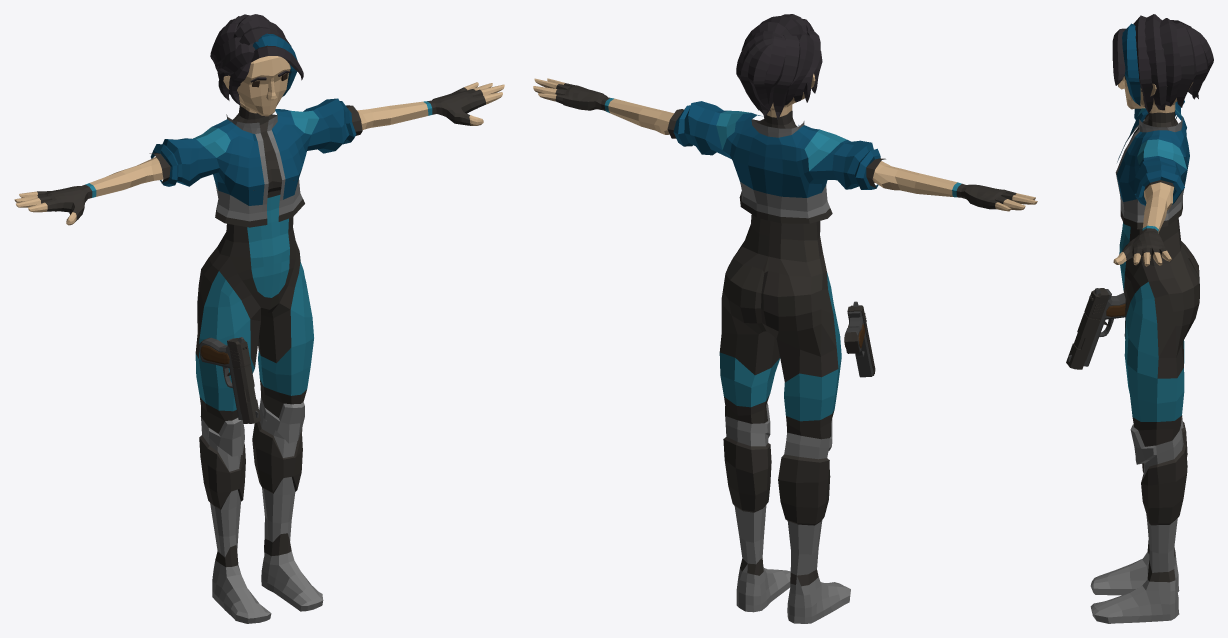
File: sci_fi_character.glb
The picture shows the model from 3 angles, left to right: view 1: azimuth 30°, elevation 25°; view 2: azimuth 150°, elevation 25°; view 3: azimuth 270°, elevation 25°; orthographic projection. The views are drawn at different scales.
Visible parts, largest first — view 1: SciFi_Body_ca4737, SciFi_Legs_46c1e3, SciFi_Feet_1031f6, SciFi_Legs_e18fa0, SciFi_Body_41ae73, SciFi_Feet, SciFi_Body_96c9e0, SciFi_Head_aa7b75, SciFi_Legs_77a758, SciFi_Body_b02ae6, SciFi_Body, SciFi_Head_058b51 (+2 smaller); view 2: SciFi_Legs_e18fa0, SciFi_Body_ca4737, SciFi_Feet_1031f6, SciFi_Feet, SciFi_Head_aa7b75, SciFi_Body_41ae73, SciFi_Legs_46c1e3, SciFi_Body_96c9e0, SciFi_Body, SciFi_Legs_77a758, SciFi_Body_b02ae6, Pistol_42ccd6; view 3: SciFi_Legs_e18fa0, SciFi_Head_aa7b75, SciFi_Feet_1031f6, SciFi_Legs_46c1e3, SciFi_Body_ca4737, SciFi_Feet, SciFi_Body_41ae73, SciFi_Body_96c9e0, Pistol_eecb3f, SciFi_Legs_77a758, SciFi_Body, SciFi_Body_b02ae6 (+4 smaller).
Part boxes in pixels (x1,y1,x2,y2): SciFi_Body_ca4737: (150, 98, 356, 205); SciFi_Legs_46c1e3: (195, 249, 313, 411); SciFi_Feet_1031f6: (210, 477, 323, 623); SciFi_Legs_e18fa0: (195, 241, 306, 433); SciFi_Body_41ae73: (37, 87, 485, 258); SciFi_Feet: (199, 421, 302, 567); SciFi_Body_96c9e0: (14, 82, 504, 225); SciFi_Head_aa7b75: (210, 14, 303, 105); SciFi_Legs_77a758: (201, 397, 304, 471); SciFi_Body_b02ae6: (85, 101, 432, 258); SciFi_Body: (215, 113, 302, 221); SciFi_Head_058b51: (223, 56, 290, 116); SciFi_Legs_e18fa0: (719, 241, 838, 439); SciFi_Body_ca4737: (673, 101, 881, 197); SciFi_Feet_1031f6: (734, 505, 850, 623); SciFi_Feet: (723, 437, 830, 586); SciFi_Head_aa7b75: (736, 14, 822, 119); SciFi_Body_41ae73: (555, 83, 1016, 262); SciFi_Legs_46c1e3: (719, 272, 841, 421); SciFi_Body_96c9e0: (533, 78, 1037, 211); SciFi_Body: (740, 119, 829, 218); SciFi_Legs_77a758: (725, 403, 832, 459); SciFi_Body_b02ae6: (604, 98, 961, 197); Pistol_42ccd6: (844, 301, 873, 377); SciFi_Legs_e18fa0: (1123, 241, 1199, 446); SciFi_Head_aa7b75: (1112, 14, 1213, 113); SciFi_Feet_1031f6: (1090, 514, 1179, 623); SciFi_Legs_46c1e3: (1119, 246, 1184, 421); SciFi_Body_ca4737: (1116, 100, 1189, 205); SciFi_Feet: (1141, 422, 1187, 582); SciFi_Body_41ae73: (1119, 114, 1182, 265); SciFi_Body_96c9e0: (1113, 182, 1173, 266); Pistol_eecb3f: (1066, 288, 1109, 369); SciFi_Legs_77a758: (1130, 415, 1183, 477); SciFi_Body: (1115, 117, 1185, 222); SciFi_Body_b02ae6: (1119, 108, 1186, 250).
Bounding box in the file's own units: 1.6 × 1.8 × 0.4127.
